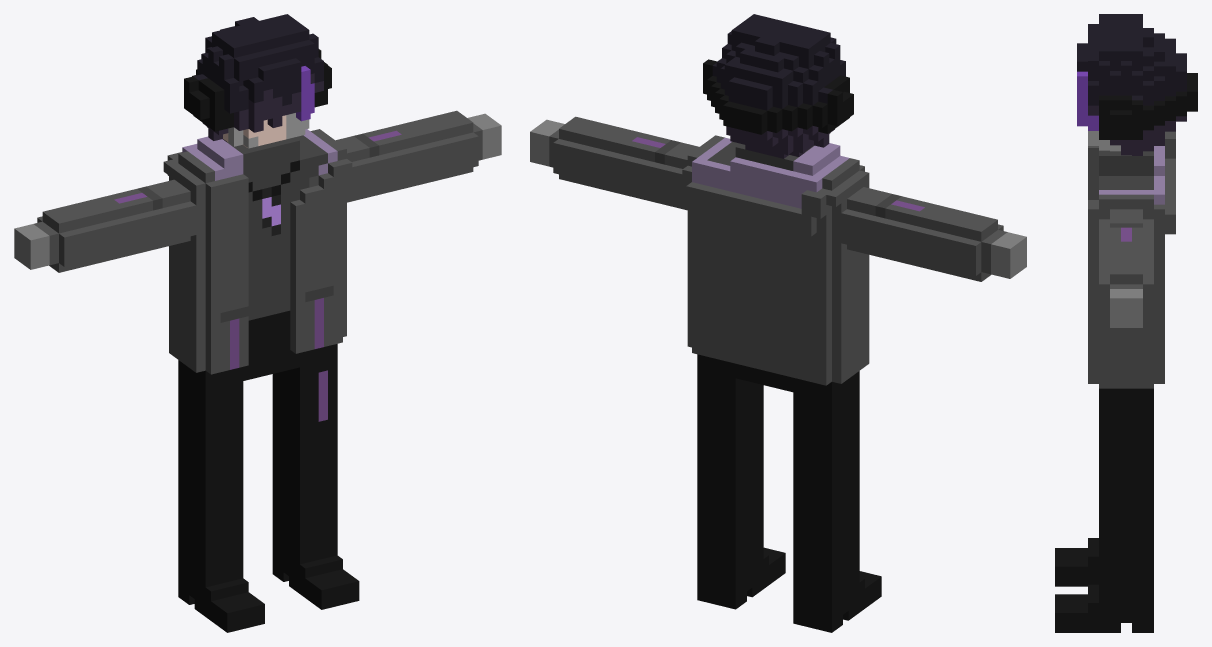
Rendered from hacker modeling.obj.
3 views of the same model, side by side, from view 1: azimuth 30°, elevation 25°; view 2: azimuth 150°, elevation 25°; view 3: azimuth 270°, elevation 25° (orthographic).
Size of the model in its own units: 5 by 5.7 by 1.3.
Materials: 1 (1 with a texture image).
